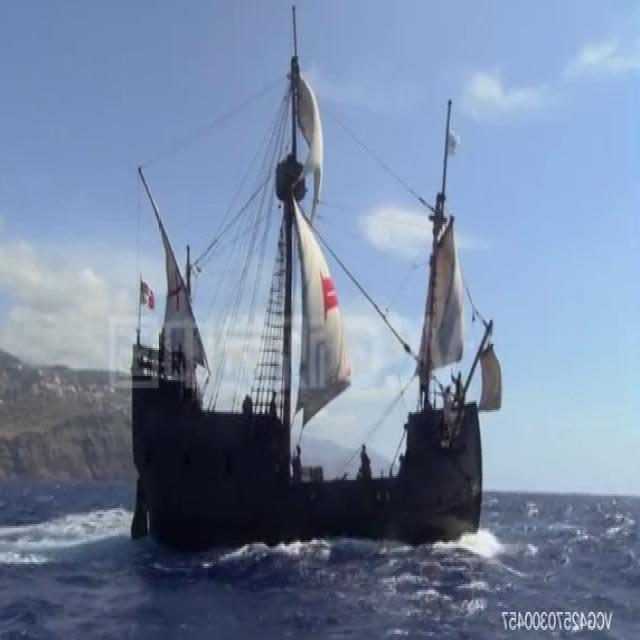sailboat: (124, 2, 516, 544)
